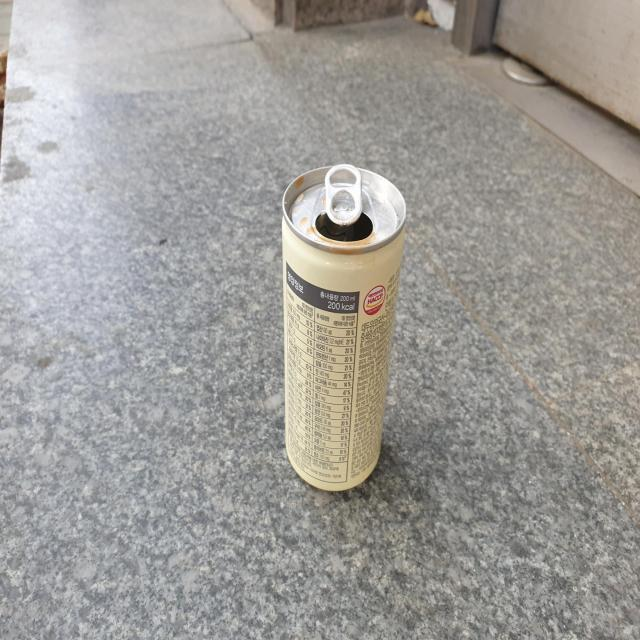can: (283, 163, 406, 491)
